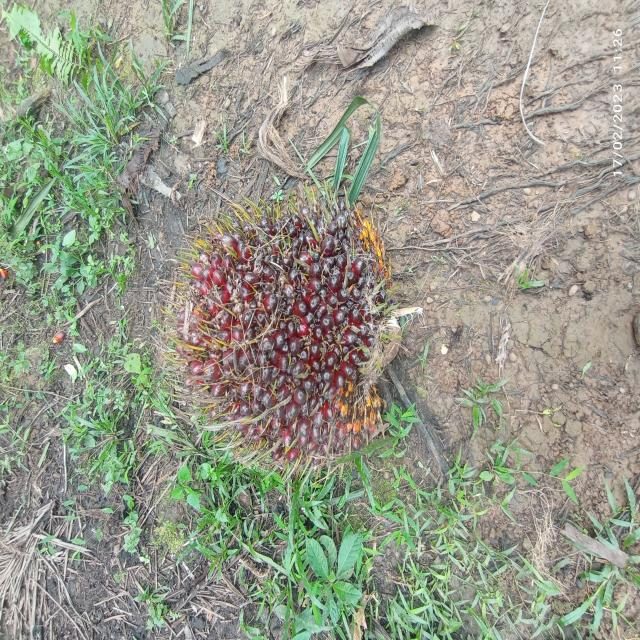fraksi 1: (150, 190, 409, 498)
